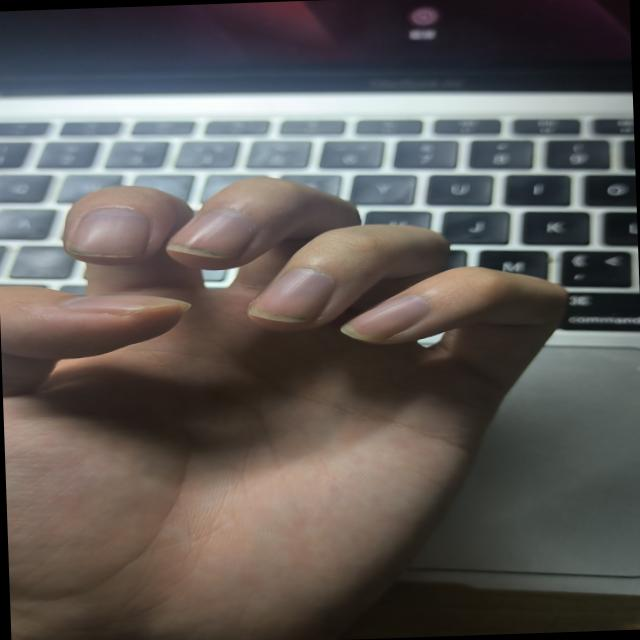Nail: (250, 268, 335, 321), (166, 209, 255, 258), (340, 295, 432, 341), (69, 208, 150, 257), (56, 295, 187, 315)
